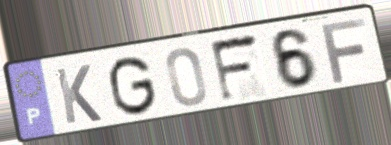0: (164, 46, 210, 109)
6: (267, 26, 321, 93)
F: (207, 30, 263, 106), (318, 16, 369, 85)
G: (107, 54, 160, 119)
K: (52, 62, 104, 127)
